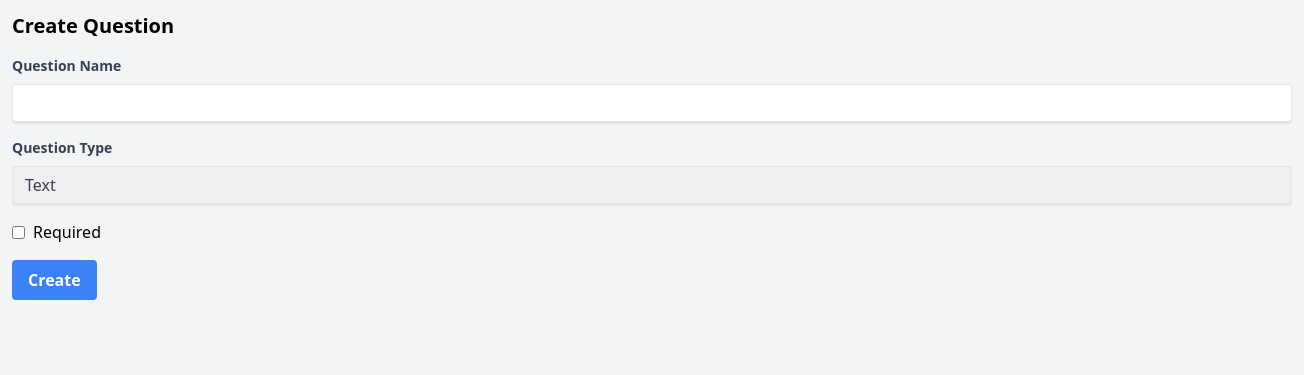
it: InputCreator Component › shows option fields for select type
Select "Select" in the dropdown labelled "Question Type": coordinates (652, 185) [12,166,1292,204]
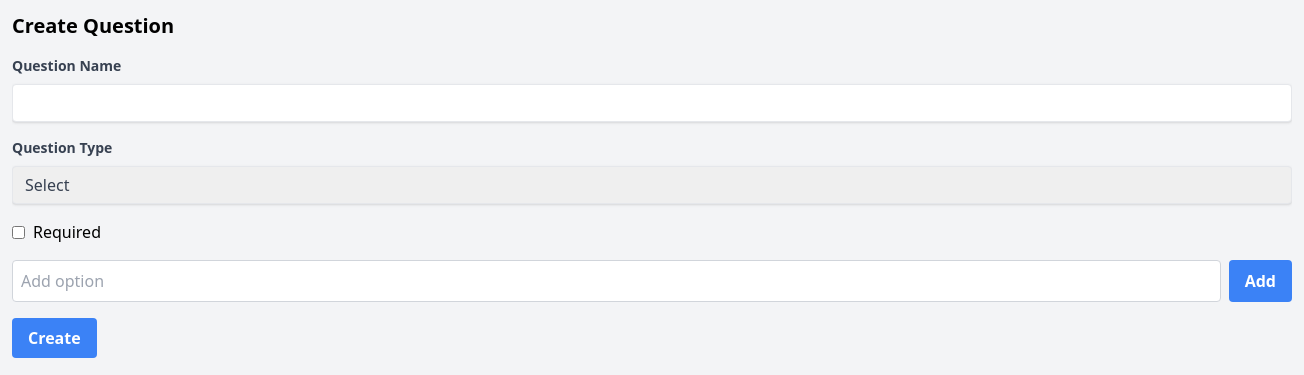
Expected: the field with placeholder "Add option" is shown, [12,260,1221,302]
Expected: the button "Add" is shown, [1229,260,1292,302]
